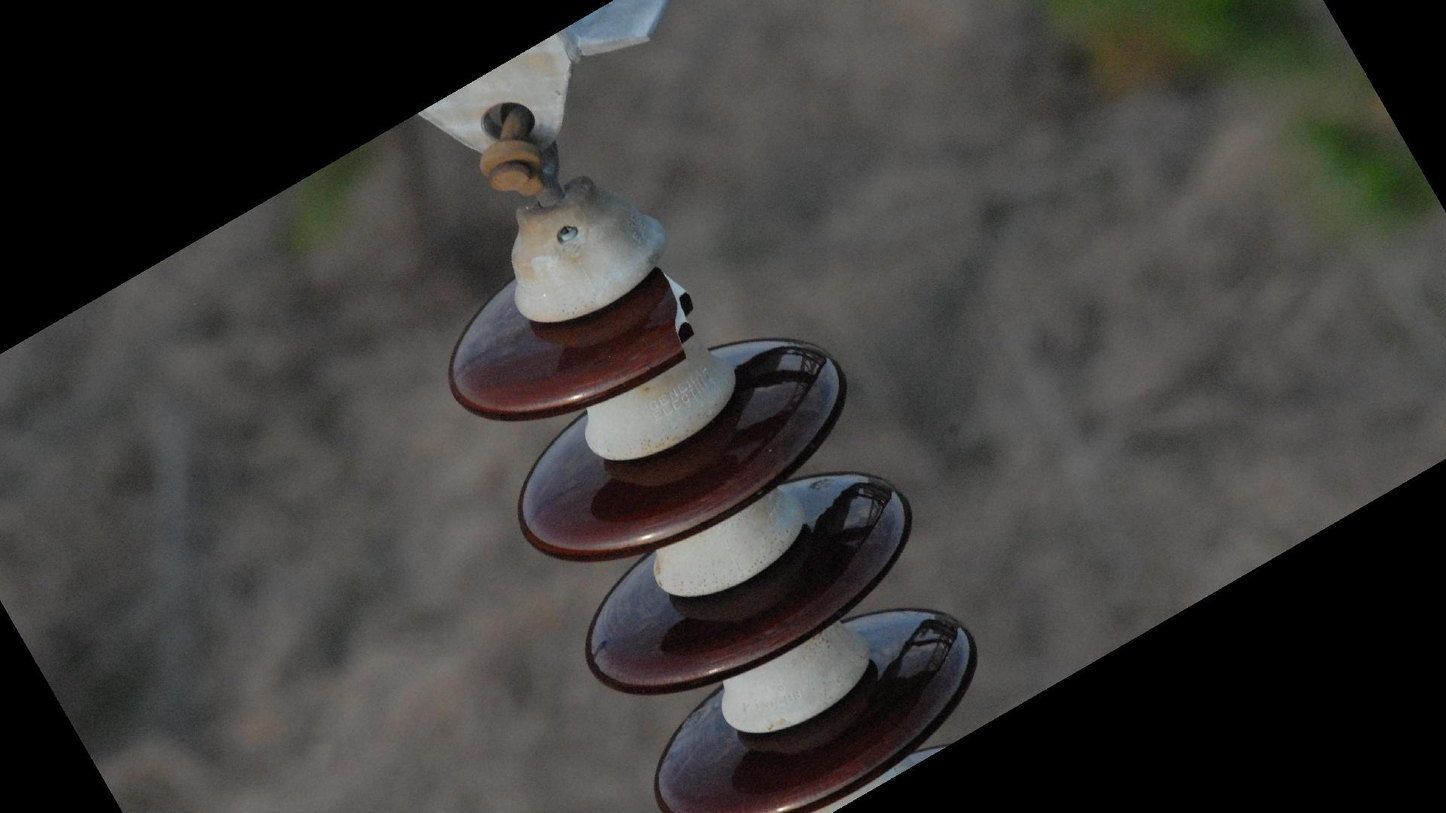insulator: (440, 270, 984, 813)
insulator_breakage: (648, 260, 707, 369)
